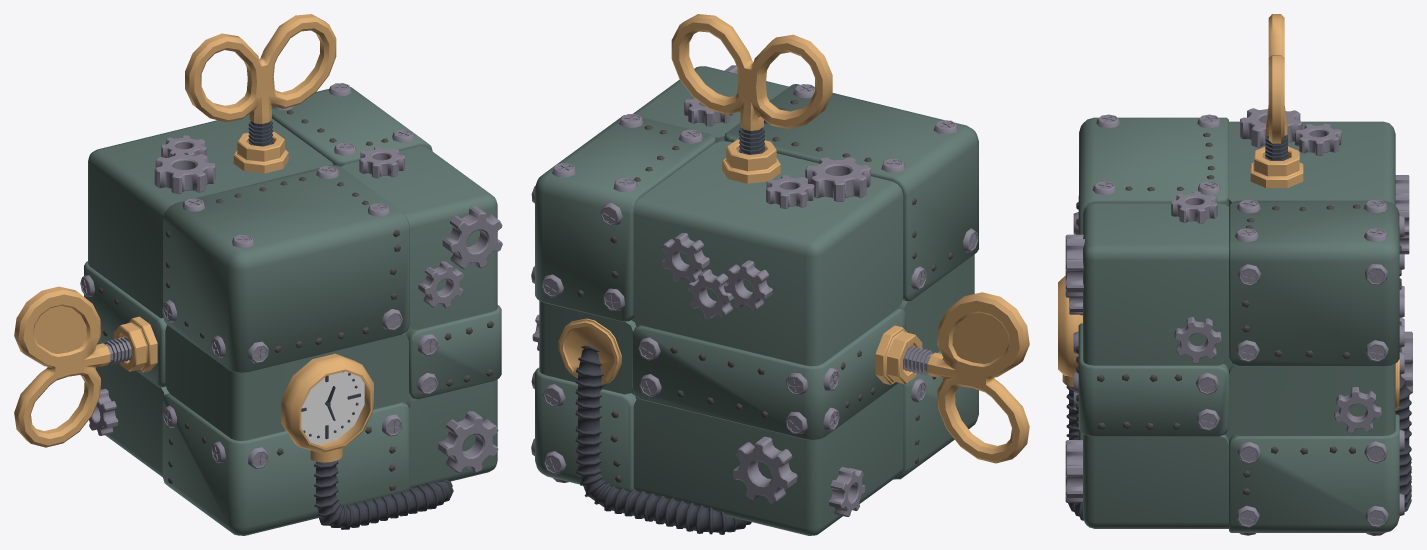
Rendered from Aufziehkubus_Much_01.fbx.
3 renders of one model, left to right at view 1: azimuth 30°, elevation 25°; view 2: azimuth 150°, elevation 25°; view 3: azimuth 270°, elevation 25°, orthographic. The views are drawn at different scales.
Visible parts, largest first — view 1: CubeBase_01, Zahnrad_01, Aufziehschlüssel_01, Aufziehschlüssel_02, Messgerät_01, Schraube_01_bigKreuz.001, Pipe_Gummi_02_multi, Aufziehschlüsselloch_02, Schraube_02_smoll, Aufziehschlüsselloch_01; view 2: CubeBase_01, Zahnrad_01, Aufziehschlüssel_01, Aufziehschlüssel_02, Schraube_01_bigKreuz.001, Pipe_Gummi_02_multi, Pipe_Ausgang_01, Aufziehschlüsselloch_01, Aufziehschlüsselloch_02, Schraube_02_smoll; view 3: CubeBase_01, Zahnrad_01, Schraube_01_bigKreuz.001, Aufziehschlüssel_02, Pipe_Gummi_02_multi, Aufziehschlüsselloch_02, Messgerät_01, Schraube_02_smoll.
Boxes of the visible parts, x1,y1,x2,y2 form: CubeBase_01: [84, 87, 501, 535]; Zahnrad_01: [89, 135, 502, 472]; Aufziehschlüssel_01: [14, 286, 131, 447]; Aufziehschlüssel_02: [185, 14, 336, 146]; Messgerät_01: [281, 353, 373, 462]; Schraube_01_bigKreuz.001: [80, 83, 438, 535]; Pipe_Gummi_02_multi: [314, 460, 453, 529]; Aufziehschlüsselloch_02: [233, 132, 288, 173]; Schraube_02_smoll: [98, 110, 493, 490]; Aufziehschlüsselloch_01: [113, 316, 157, 372]; CubeBase_01: [535, 66, 978, 535]; Zahnrad_01: [532, 65, 870, 516]; Aufziehschlüssel_01: [903, 292, 1029, 463]; Aufziehschlüssel_02: [671, 14, 832, 154]; Schraube_01_bigKreuz.001: [531, 84, 978, 482]; Pipe_Gummi_02_multi: [575, 345, 751, 534]; Pipe_Ausgang_01: [558, 318, 621, 383]; Aufziehschlüsselloch_01: [875, 325, 922, 384]; Aufziehschlüsselloch_02: [722, 139, 780, 183]; Schraube_02_smoll: [577, 100, 952, 482]; CubeBase_01: [1078, 117, 1399, 532]; Zahnrad_01: [1065, 108, 1412, 502]; Schraube_01_bigKreuz.001: [1073, 114, 1404, 535]; Aufziehschlüssel_02: [1265, 14, 1287, 160]; Pipe_Gummi_02_multi: [1066, 370, 1411, 520]; Aufziehschlüsselloch_02: [1250, 146, 1303, 187]; Messgerät_01: [1058, 276, 1082, 387]; Schraube_02_smoll: [1076, 132, 1401, 495].
Size of the model in its own units: 307 by 311 by 227.
